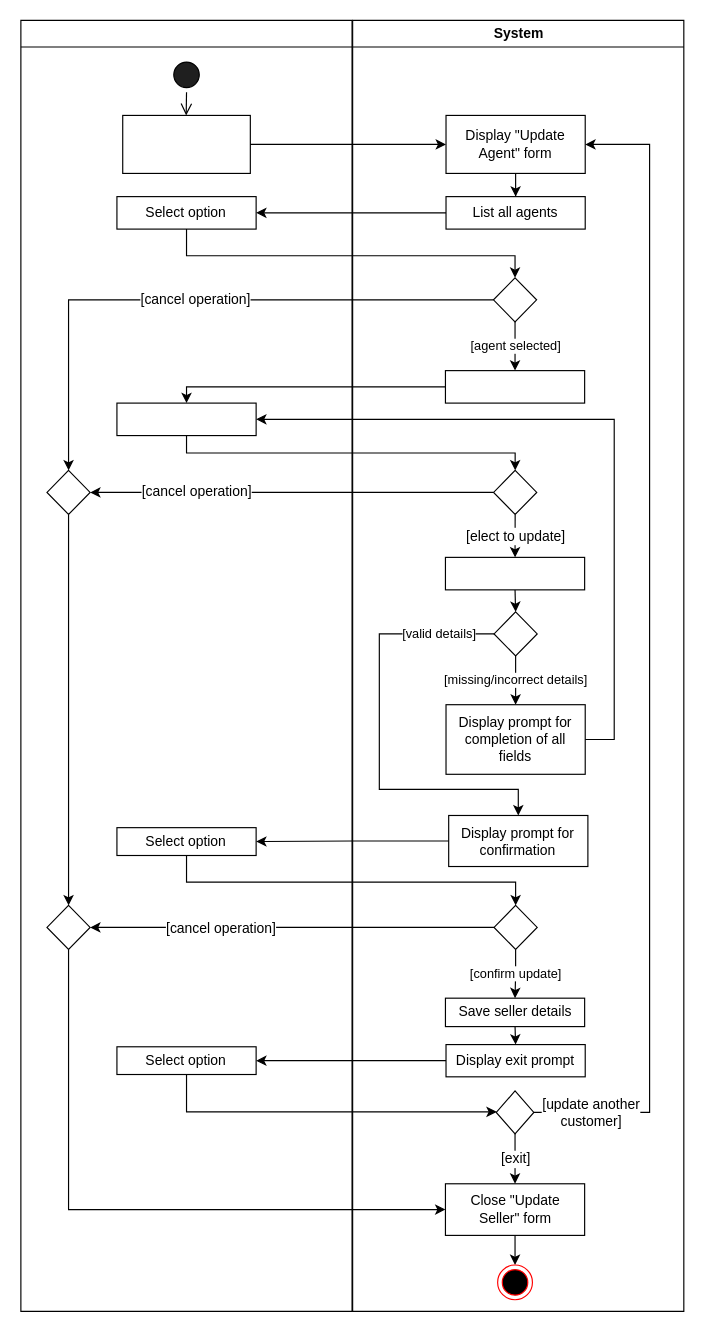
Image size: 704x1332. Some labels were removed from this diagram. The box of each missing label's shape, as (x1, y1, x2, y2) in pixels:
Assistant Administrator: (20, 19, 352, 1311)
Display agent details: (444, 369, 585, 403)
Select "Update Agent" option: (122, 114, 250, 173)
Update agent details: (116, 402, 256, 436)
Validate details: (444, 556, 585, 590)
